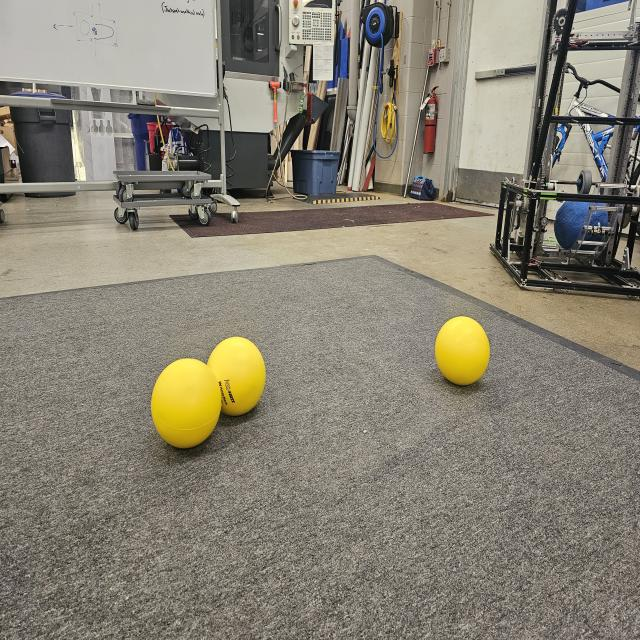Fuel: (151, 359, 222, 449), (205, 337, 267, 418), (434, 316, 490, 386)
